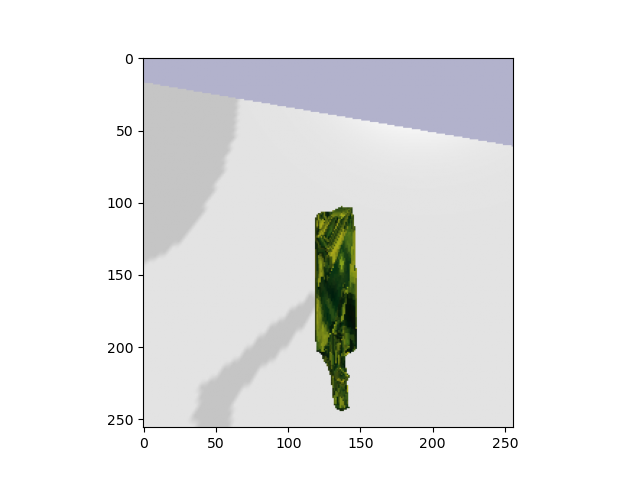v249b387_108: (303, 202, 371, 418)
